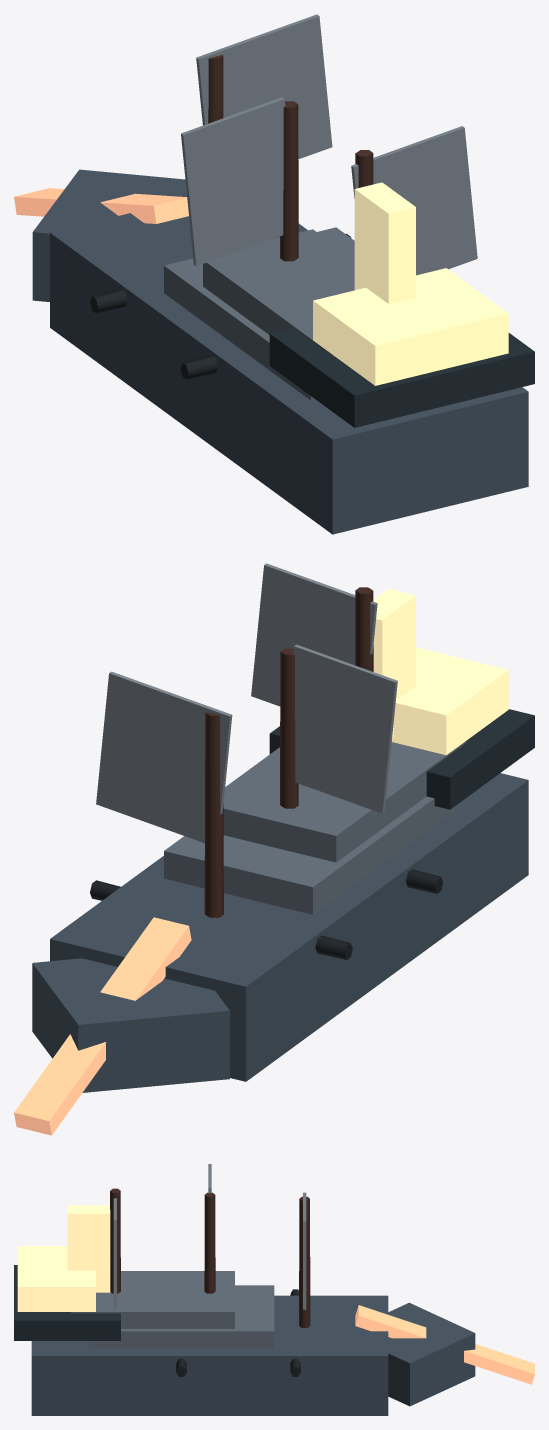
File: ship_main_60_lod1.glb
The picture shows the model from 3 angles, top to bottom: view 1: azimuth 30°, elevation 25°; view 2: azimuth 150°, elevation 25°; view 3: azimuth 270°, elevation 25°; orthographic projection. The views are drawn at different scales.
Parts seen in each view (by area): view 1: Hull, UpperGallery, Sail_1, LowerGallery, Deck_1, Sail_0, Sail_2, CrownSpire, Bow, Deck_0, ProwIdentity, Mast_1 (+4 smaller); view 2: Hull, Bow, Sail_0, Sail_1, Deck_1, Deck_0, Sail_2, UpperGallery, ProwIdentity, LowerGallery, CrownSpire, Mast_0 (+4 smaller); view 3: Hull, Deck_1, Bow, Deck_0, UpperGallery, LowerGallery, CrownSpire, ProwIdentity, Mast_1, Mast_0, Mast_2, Sail_0 (+1 smaller).
Boxes of the visible parts, x1,y1,x2,y2 form: Hull: (50, 213, 528, 534); UpperGallery: (313, 268, 508, 385); Sail_1: (181, 97, 285, 266); LowerGallery: (269, 328, 534, 427); Deck_1: (203, 227, 354, 356); Sail_0: (196, 14, 332, 159); Sail_2: (351, 126, 477, 275); CrownSpire: (354, 182, 415, 303); Bow: (32, 169, 186, 301); Deck_0: (164, 229, 316, 400); ProwIdentity: (14, 188, 188, 223); Mast_1: (280, 101, 298, 261); Hull: (50, 773, 528, 1081); Bow: (32, 958, 229, 1092); Sail_0: (96, 671, 232, 843); Sail_1: (293, 644, 397, 813); Deck_1: (223, 741, 466, 862); Deck_0: (164, 796, 459, 914); Sail_2: (251, 563, 377, 706); UpperGallery: (391, 647, 508, 755); ProwIdentity: (14, 917, 191, 1135); LowerGallery: (269, 709, 534, 809); CrownSpire: (373, 589, 415, 738); Mast_0: (204, 712, 223, 917); Hull: (31, 1295, 388, 1415); Deck_1: (71, 1271, 234, 1328); Bow: (388, 1302, 475, 1406); Deck_0: (89, 1285, 274, 1348); UpperGallery: (17, 1246, 95, 1311); LowerGallery: (14, 1265, 120, 1340); CrownSpire: (67, 1205, 110, 1292); ProwIdentity: (355, 1305, 534, 1384); Mast_1: (204, 1192, 215, 1293); Mast_0: (299, 1196, 310, 1327); Mast_2: (110, 1188, 120, 1293); Sail_0: (303, 1192, 306, 1309).
Bounding box in the file's own units: 3.3 × 3.86 × 9.26.
